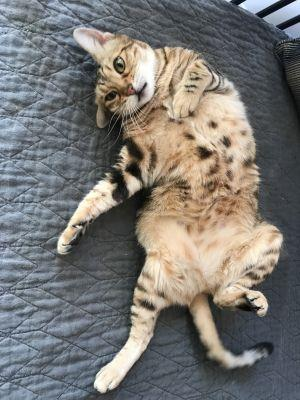bengal: (63, 24, 173, 131)
